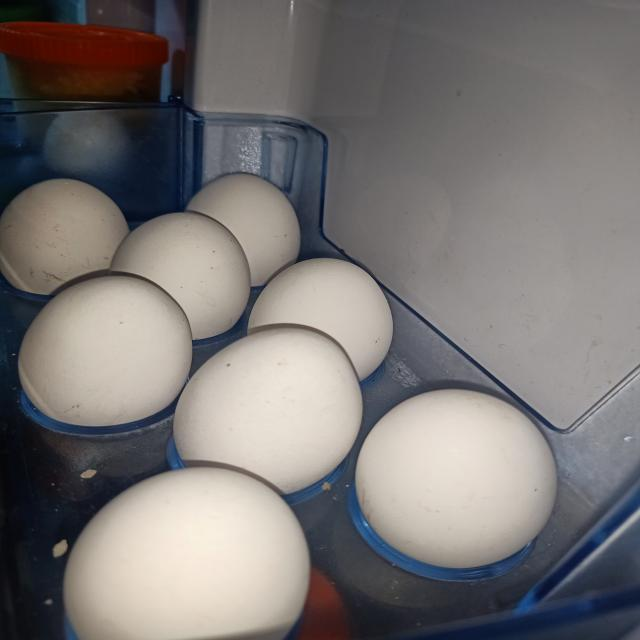Egg: (344, 376, 578, 578), (62, 464, 316, 640), (164, 322, 375, 503), (13, 272, 200, 434), (242, 256, 397, 383), (107, 209, 253, 342), (0, 174, 133, 298), (179, 168, 306, 286)
